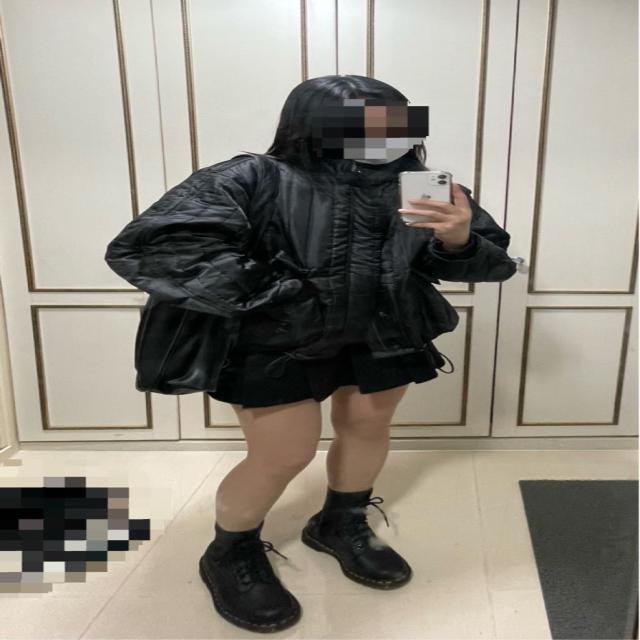padding: (118, 145, 516, 354)
skirt: (186, 334, 448, 412)
